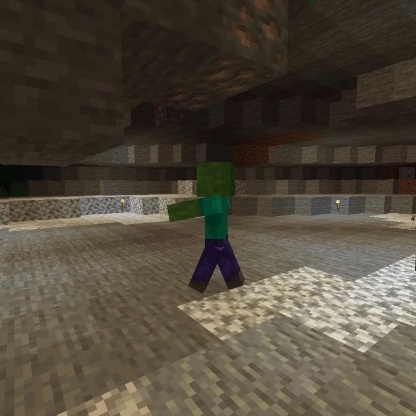zombie: (164, 158, 248, 296)
